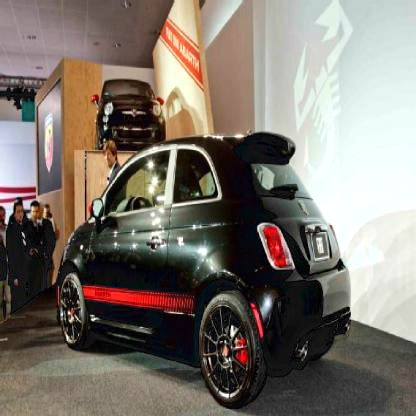Vehicle: (56, 132, 352, 412)
